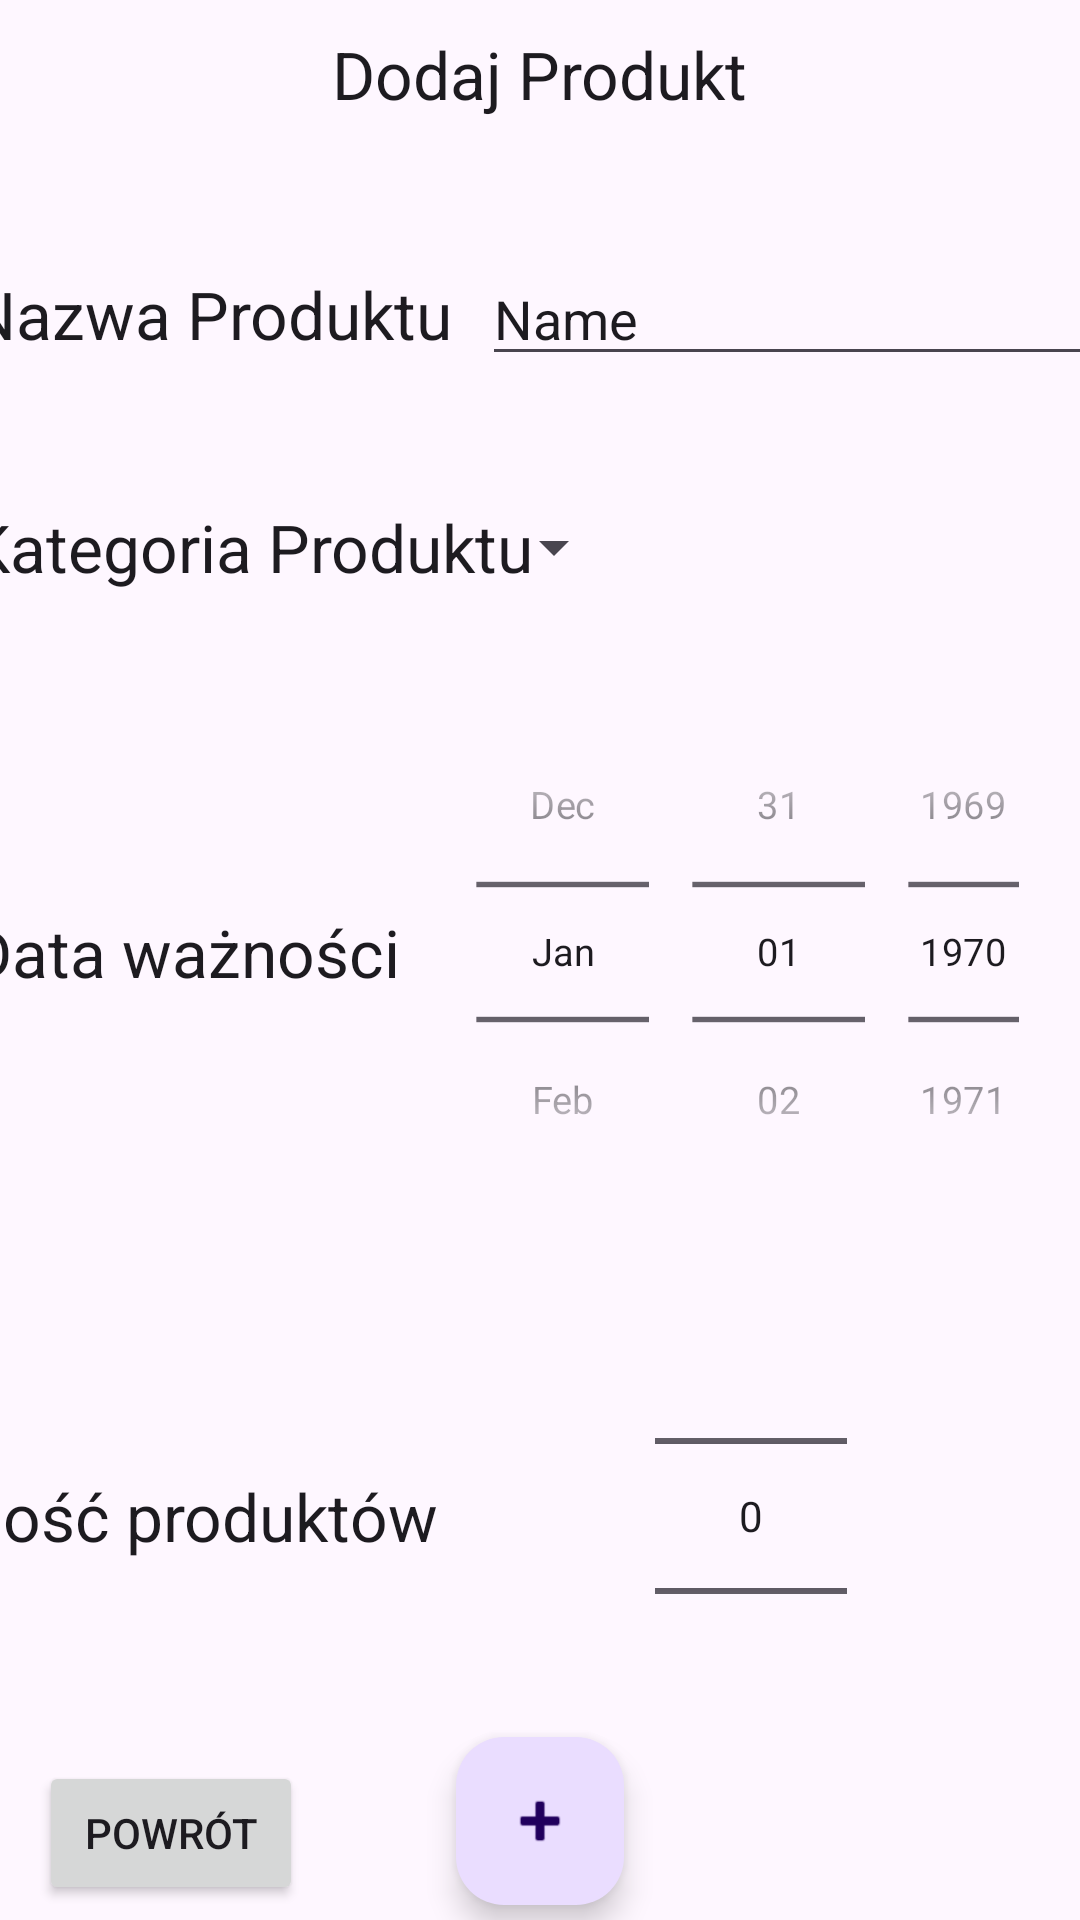

Point at icon controls on the screen. Image size 1080px x 1920px, points as (x=x, y=y).
add: (x=540, y=1821)
